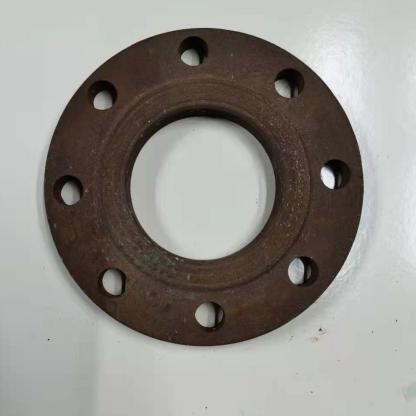FOD: (40, 22, 370, 350)
